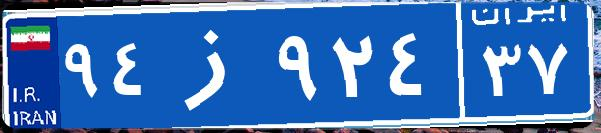2: (330, 28, 385, 110)
3: (475, 38, 525, 113)
4: (385, 28, 445, 110), (110, 28, 158, 105)
7: (525, 38, 570, 115)
9: (273, 28, 330, 110), (57, 26, 110, 107)
ز: (158, 15, 273, 115)
